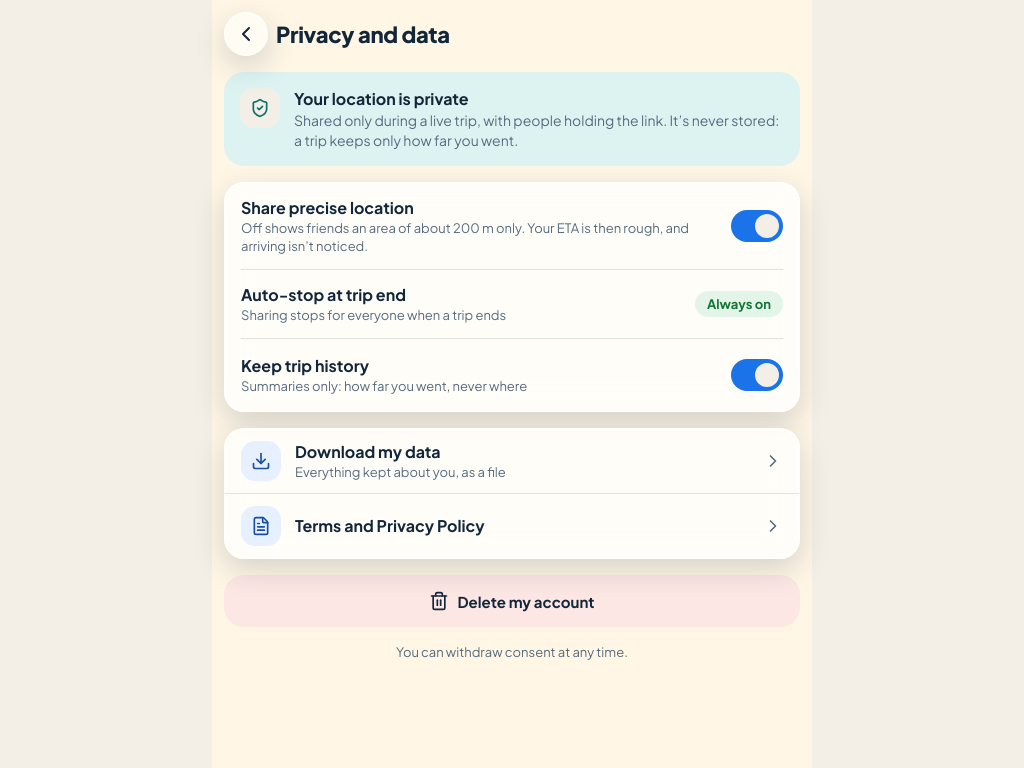
Scenario: The privacy switches › asks before keeping no history, and can remove past trips too
This screenshot has width=1024, height=768.
Click the switch labelled "Keep trip history" at (512, 375), box [241,353,783,397]
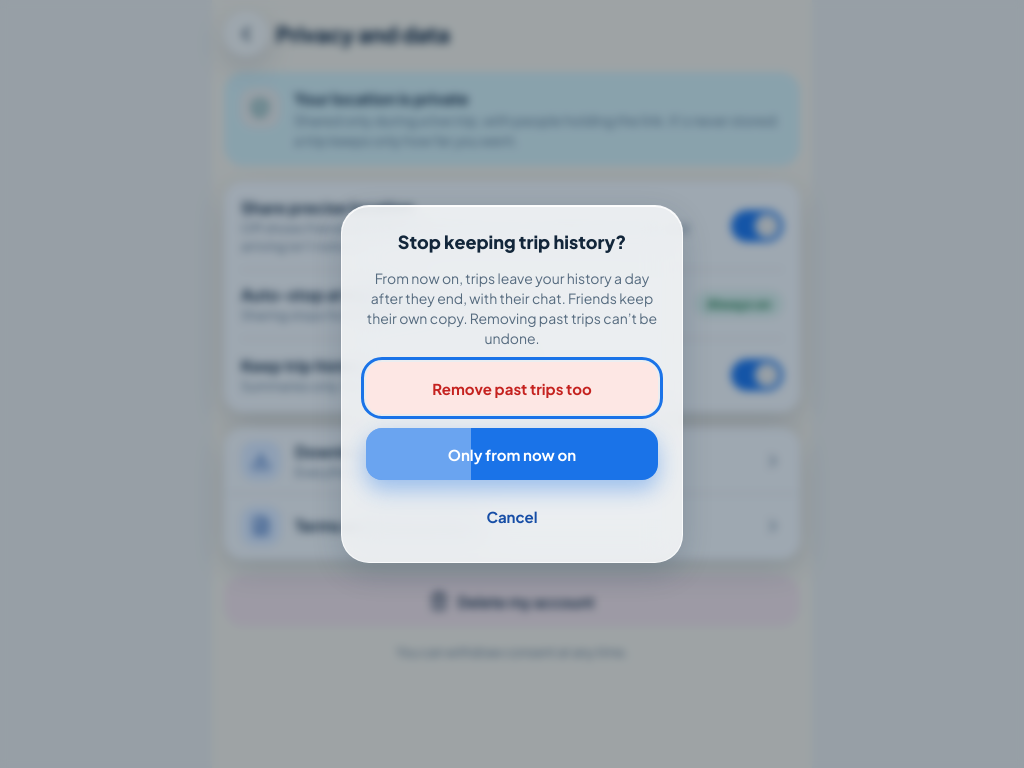
Expected: the dialog "Stop keeping trip history?" is shown, [341,205,683,563]
Click the button "Remove past trips too" at (512, 388), box [366,362,658,414]
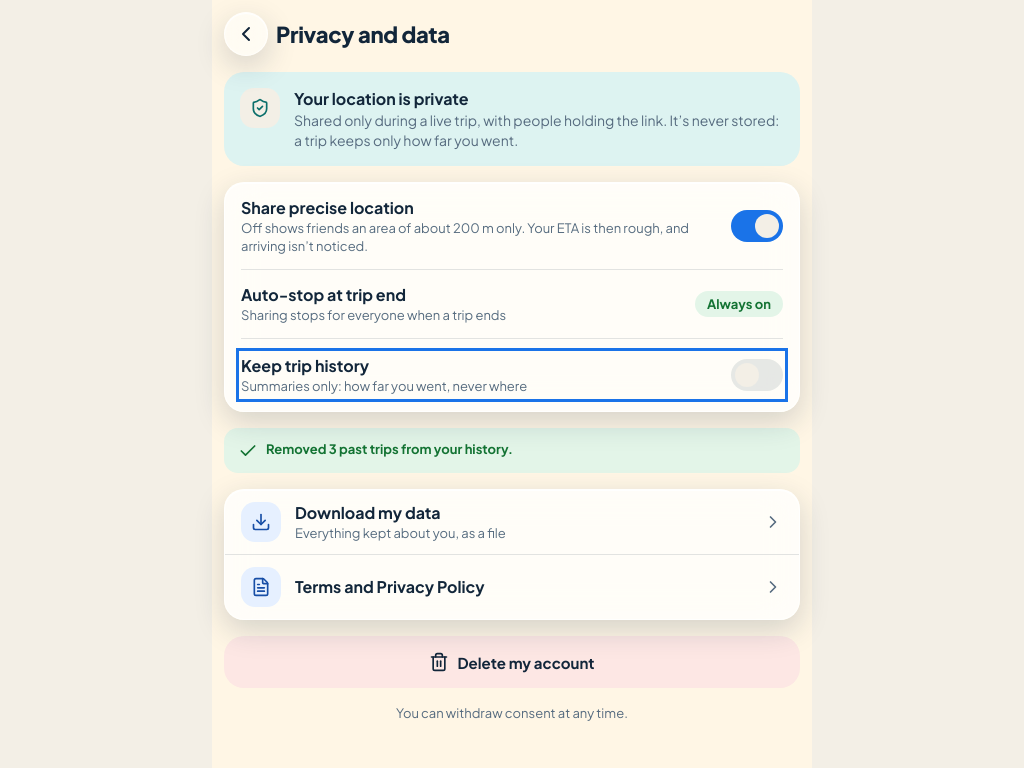
Expected: the text "Removed 3 past trips from your history." is shown, [266,440,513,458]
